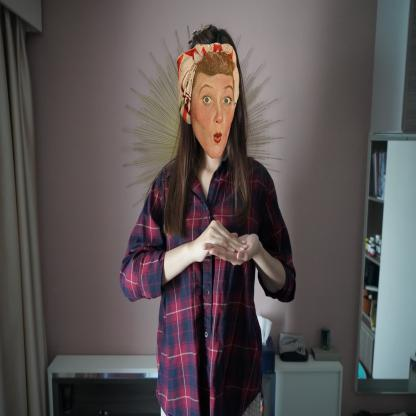Love: (184, 219, 271, 276)
